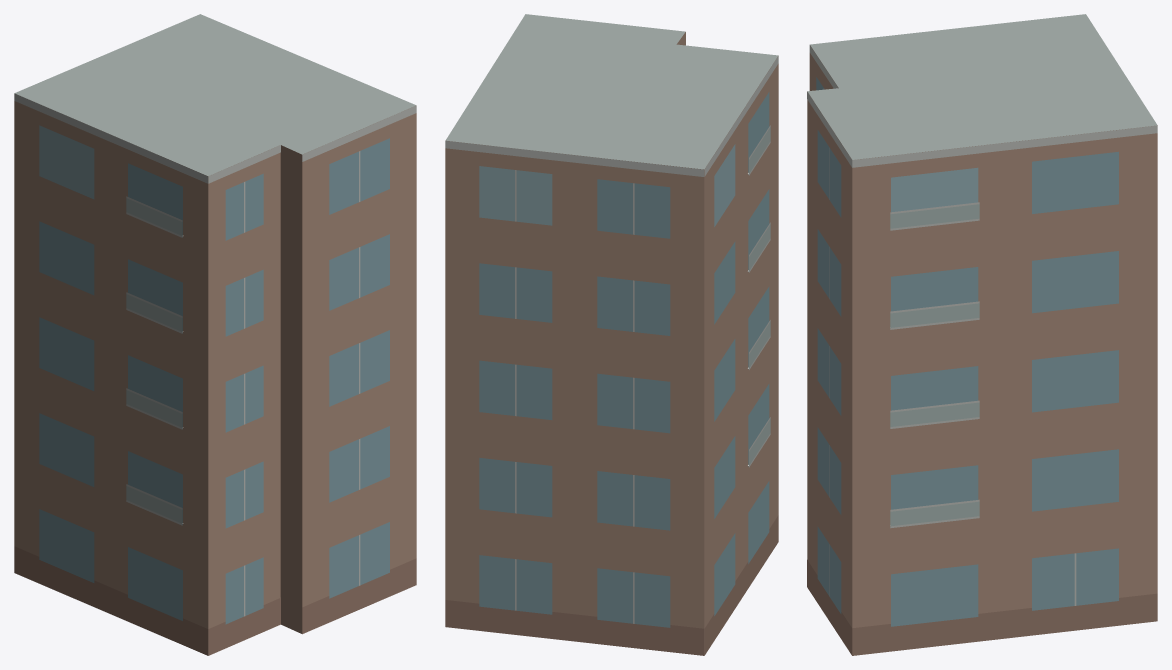
Rendered from survey-upis-33035165.glb.
3 renders of one model, left to right at view 1: azimuth 30°, elevation 25°; view 2: azimuth 150°, elevation 25°; view 3: azimuth 270°, elevation 25°, orthographic. The views are drawn at different scales.
Parts seen in each view (by area): view 1: survey-upis-33035165.tmp; view 2: survey-upis-33035165.tmp; view 3: survey-upis-33035165.tmp.
Boxes of the visible parts, box(x1,y1,x2,y2) form: survey-upis-33035165.tmp: box(14, 14, 416, 655); survey-upis-33035165.tmp: box(445, 14, 778, 655); survey-upis-33035165.tmp: box(807, 14, 1157, 655).
Bounding box in the file's own units: 9.8 × 15.5 × 9.94.
